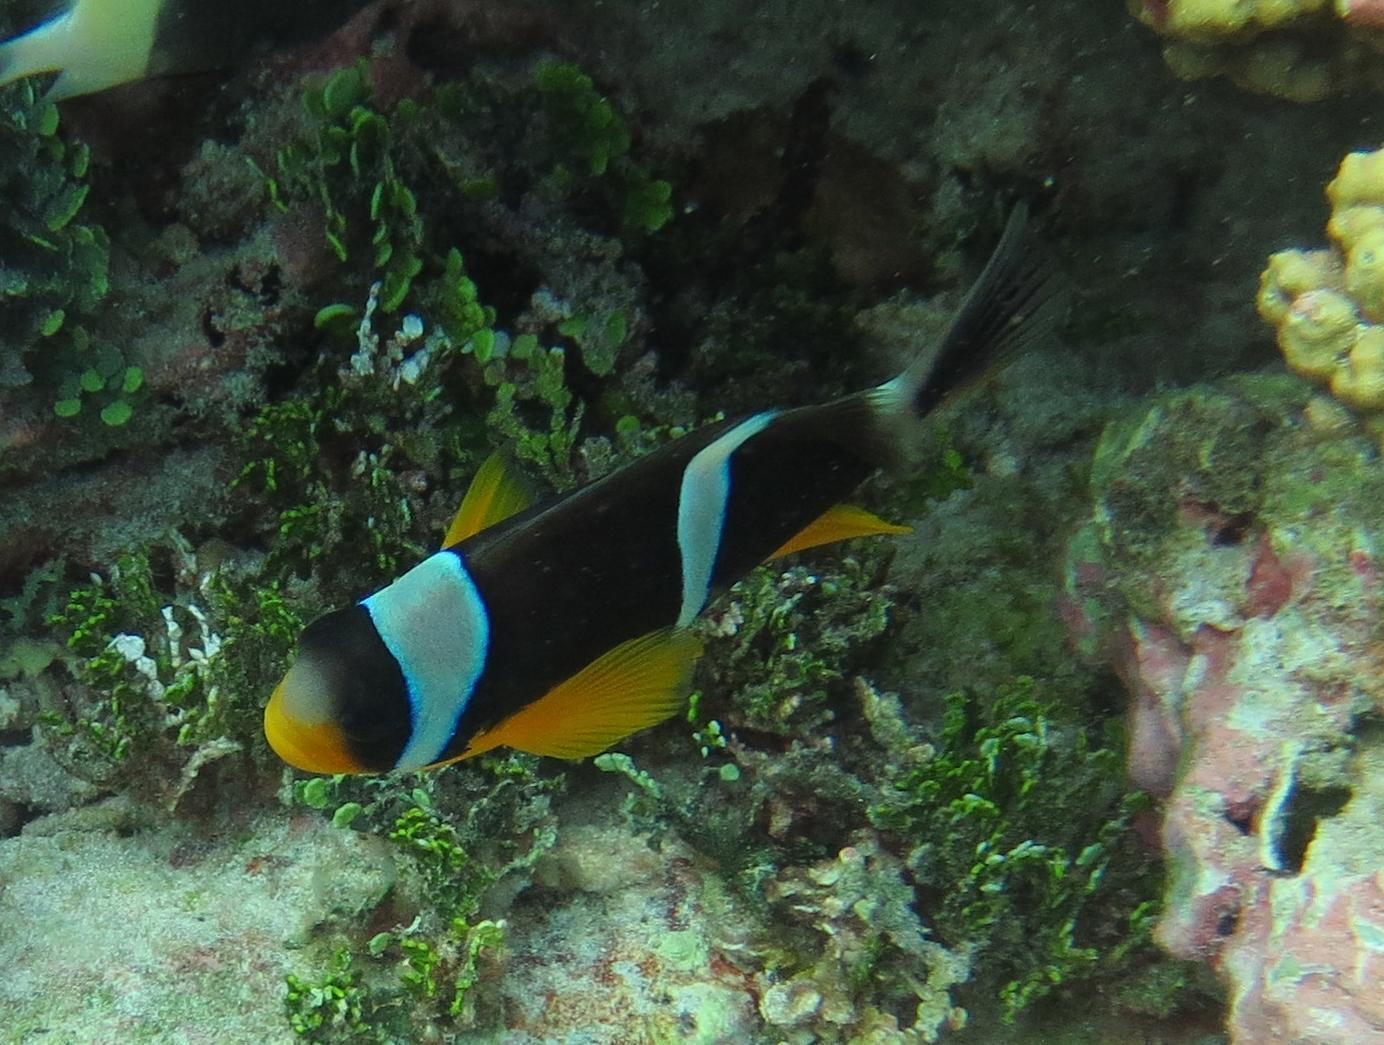Fish: (240, 179, 1087, 802)
